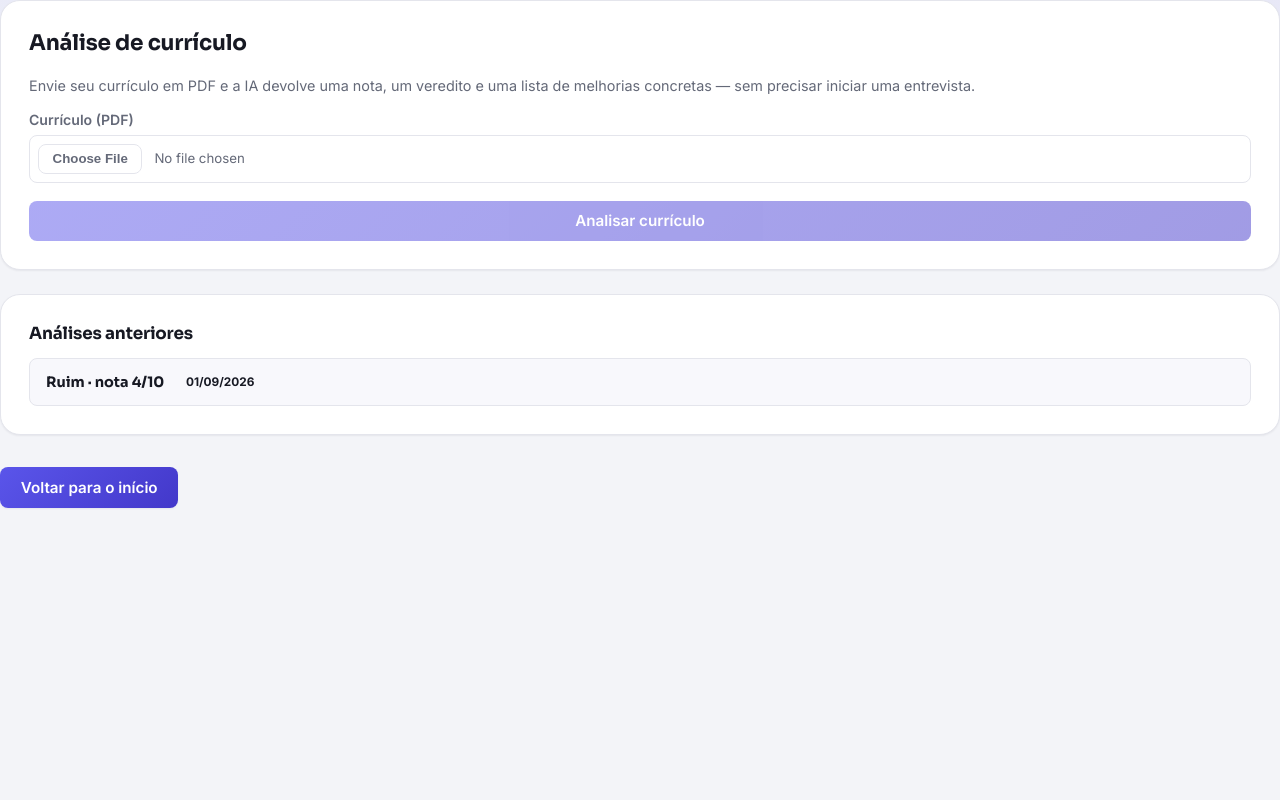
Test: ResumeReviewPage › lista o histórico e clicar num item exibe aquele resultado
The image size is (1280, 800).
Step 1. Click the button "Ruim · nota 4/10 01/09/2026" → [65, 382], box left=29, top=358, right=1251, bottom=406
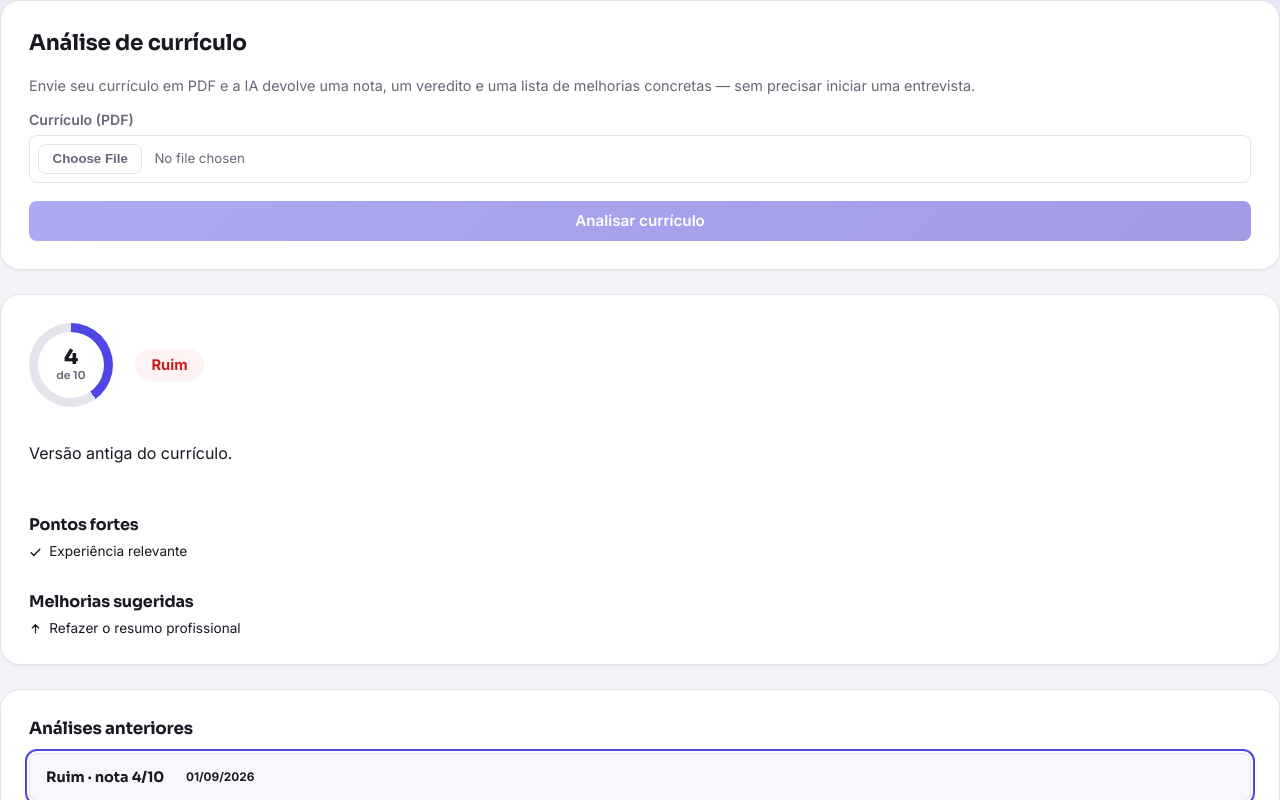
Result: the text "Versão antiga do currículo." is shown at left=29, top=443, right=232, bottom=463
Result: the list item "Refazer o resumo profissional" is shown at left=29, top=620, right=241, bottom=636
